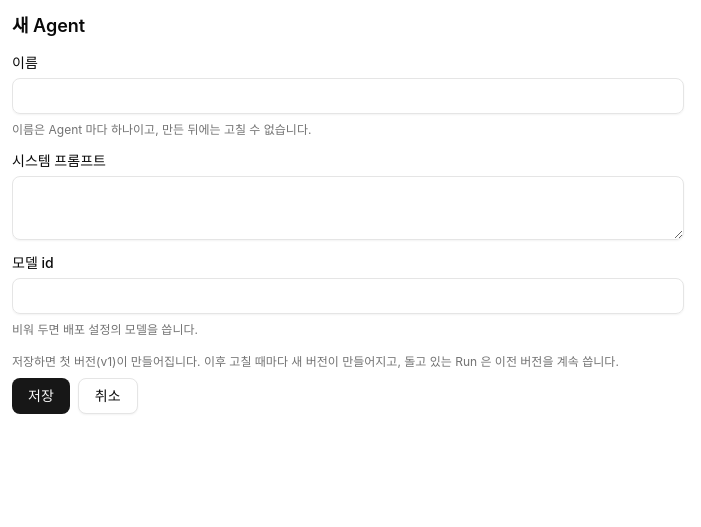
Test: AgentForm - 생성 (spec 0007 R-1) › R-1: 성공하면 v1 로 저장했다고 말하고 목록·대화로 가는 길을 준다
This screenshot has width=701, height=527.
In the field labelled "이름": (348, 96) 12,78 -> 684,114, type "a"
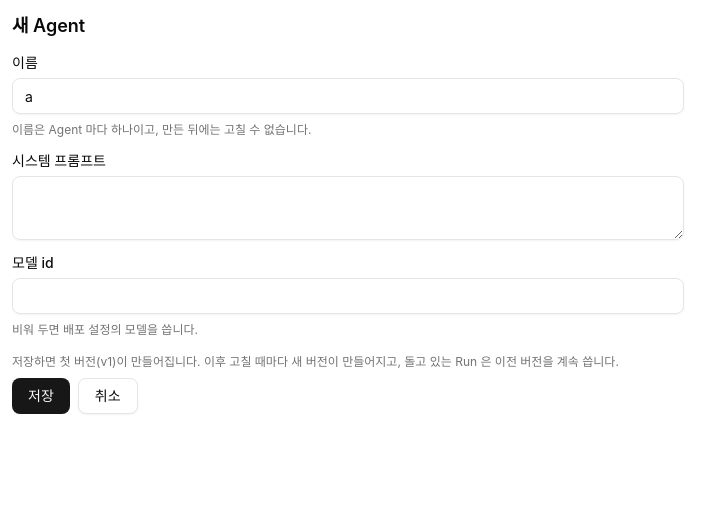
In the text box labelled "시스템 프롬프트": (348, 208) 12,176 -> 684,240, type "p"
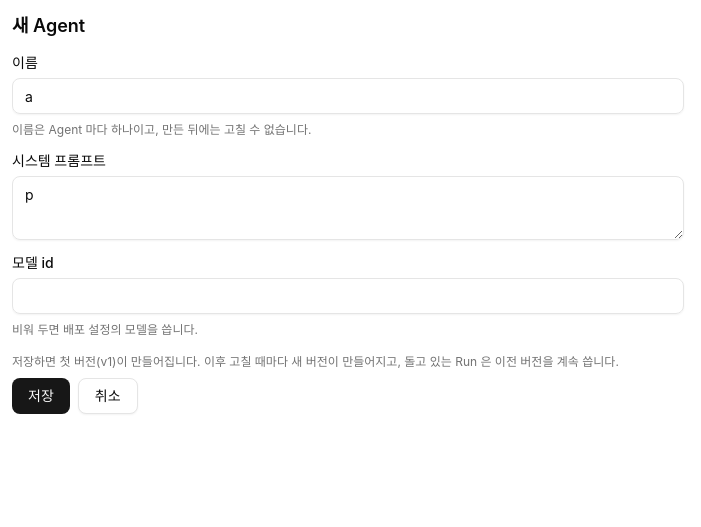
Click the button "저장": (41, 396) 12,378 -> 70,414
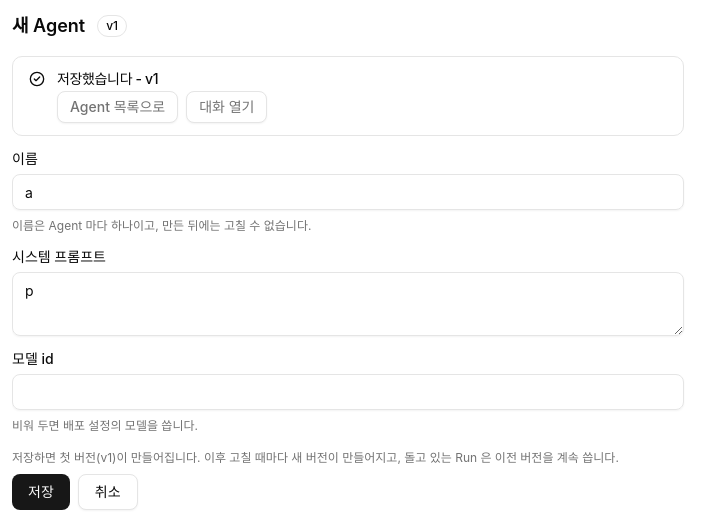
Result: the message shows "v1" at 57,70 -> 158,87
